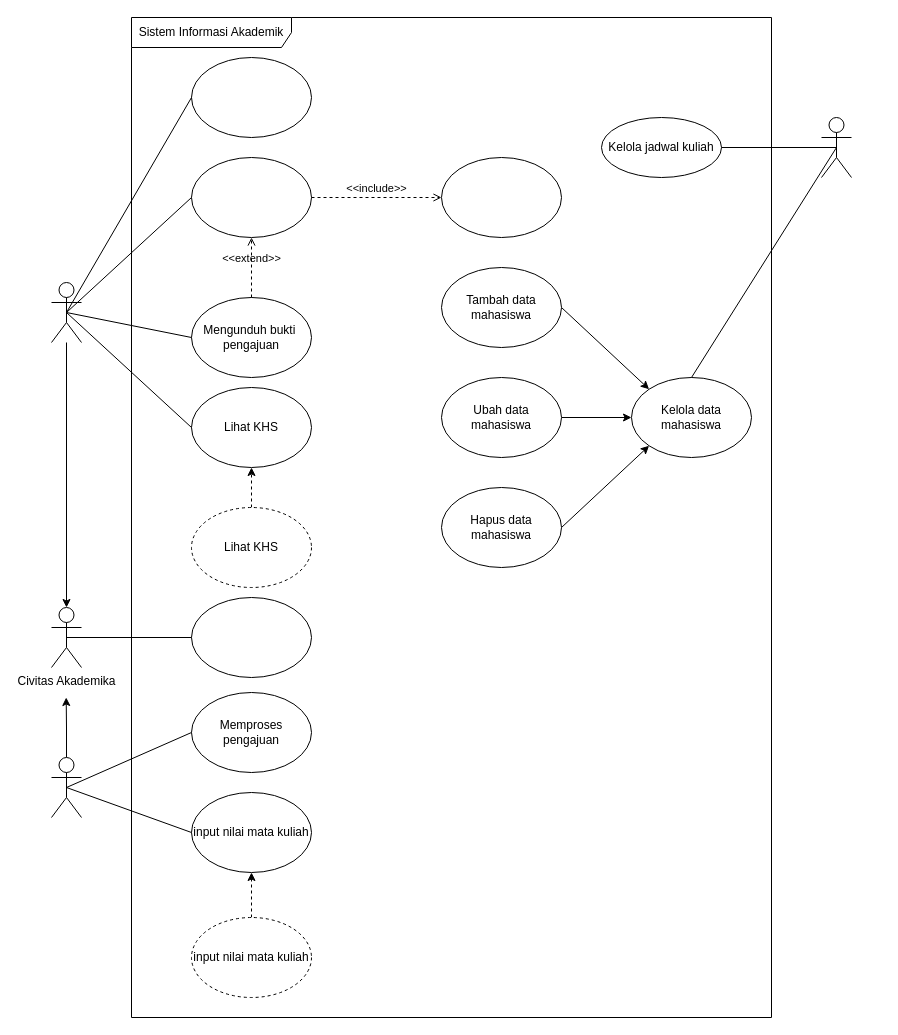
The diagram is 898 pixels wide and 1035 high, and some of its shapes have lost their labels. Each missing label, with the centre of its shape:
Admin akademik: [836,147]
Dosen wali: [66,787]
Lihat jadwal kuliah: [251,97]
Lihat kalender akademik: [251,637]
Mahasiswa: [66,312]
Memvalidasi KRS: [501,197]
Mengajukan KRS: [251,197]
